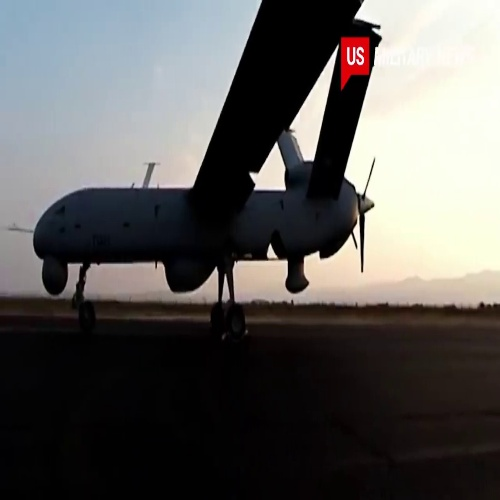uav404: (20, 3, 377, 340)
